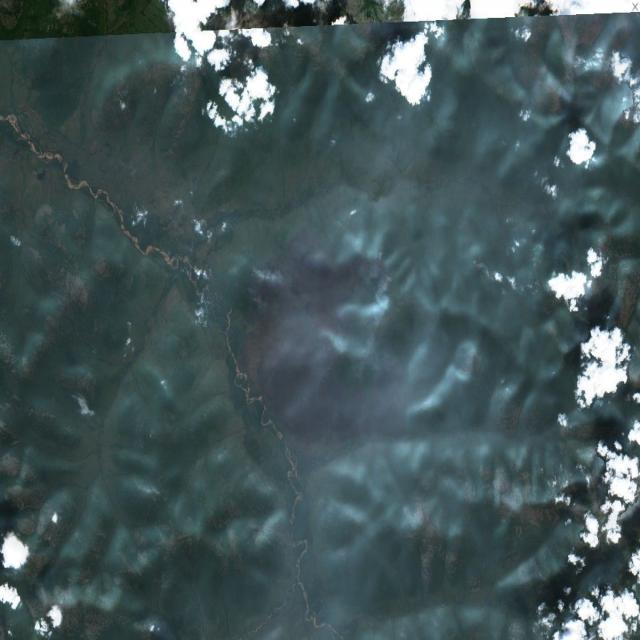fire: (243, 253, 273, 310), (366, 246, 394, 297), (378, 354, 394, 376)
